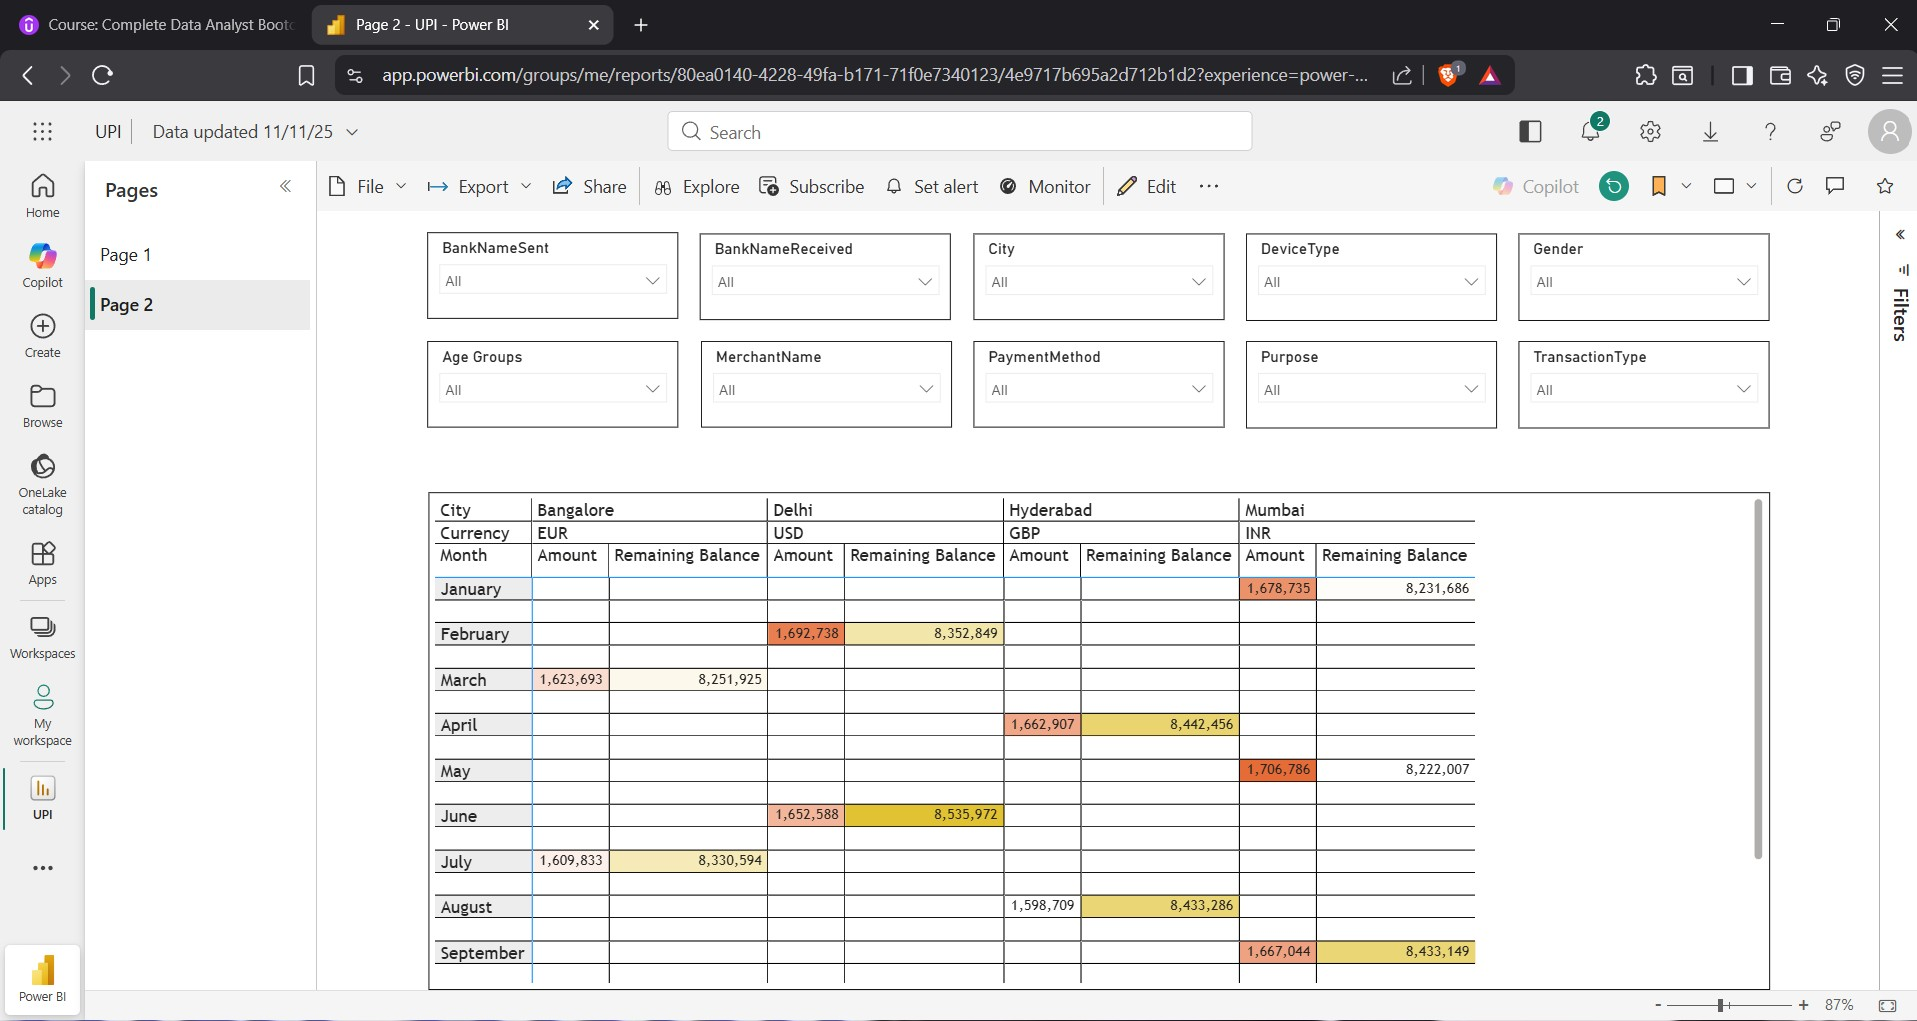

The page's visual inventory and layout, read from the dashboard file:
{"tool":"powerbi","page":{"name":"Page 2 ","canvas":[1280,720],"ordinal":1},"visuals":[{"type":"slicer","fields":{"Values":["UPI Transaction.BankNameSent"]},"box":[20,20,232,80],"z":0},{"type":"slicer","fields":{"Values":["UPI Transaction.BankNameReceived"]},"box":[272,20.6,232,80],"z":1},{"type":"slicer","fields":{"Values":["UPI Transaction.City"]},"box":[524,20.6,232,80],"z":2},{"type":"slicer","fields":{"Values":["UPI Transaction.DeviceType"]},"box":[776,20.6,232,81],"z":3},{"type":"slicer","fields":{"Values":["UPI Transaction.Gender"]},"box":[1028,20.6,232,81],"z":4},{"type":"slicer","fields":{"Values":["UPI Transaction.Age Groups"]},"box":[20.2,120,232,80],"z":5},{"type":"slicer","fields":{"Values":["UPI Transaction.MerchantName"]},"box":[272.2,120.6,232,80],"z":6},{"type":"slicer","fields":{"Values":["UPI Transaction.PaymentMethod"]},"box":[524.2,120.6,232,80],"z":7},{"type":"slicer","fields":{"Values":["UPI Transaction.Purpose"]},"box":[776.2,120.6,232,81],"z":8},{"type":"slicer","fields":{"Values":["UPI Transaction.TransactionType"]},"box":[1028.2,120.6,232,81],"z":9},{"type":"pivotTable","fields":{"Values":["Sum(UPI Transaction.Amount)","Sum(UPI Transaction.RemainingBalance)"],"Rows":["UPI Transaction.TransactionDate.Variation.Date Hierarchy.Month"],"Columns":["UPI Transaction.City","UPI Transaction.Currency"]},"box":[20.8,260.5,1240,459.8],"z":10}]}

Visuals, with their boxes on the page's 1280x720 design canvas (x1, y1, x2, y2). These are canvas units, not pixel positions in the 1917x1021 screenshot, which may show the page scaled, cropped or inside an application window:
slicer - UPI Transaction.BankNameSent: <box>20,20,252,100</box>
slicer - UPI Transaction.BankNameReceived: <box>272,21,504,101</box>
slicer - UPI Transaction.City: <box>524,21,756,101</box>
slicer - UPI Transaction.DeviceType: <box>776,21,1008,102</box>
slicer - UPI Transaction.Gender: <box>1028,21,1260,102</box>
slicer - UPI Transaction.Age Groups: <box>20,120,252,200</box>
slicer - UPI Transaction.MerchantName: <box>272,121,504,201</box>
slicer - UPI Transaction.PaymentMethod: <box>524,121,756,201</box>
slicer - UPI Transaction.Purpose: <box>776,121,1008,202</box>
slicer - UPI Transaction.TransactionType: <box>1028,121,1260,202</box>
pivotTable - Sum(UPI Transaction.Amount) x Sum(UPI Transaction.RemainingBalance): <box>21,260,1261,720</box>
